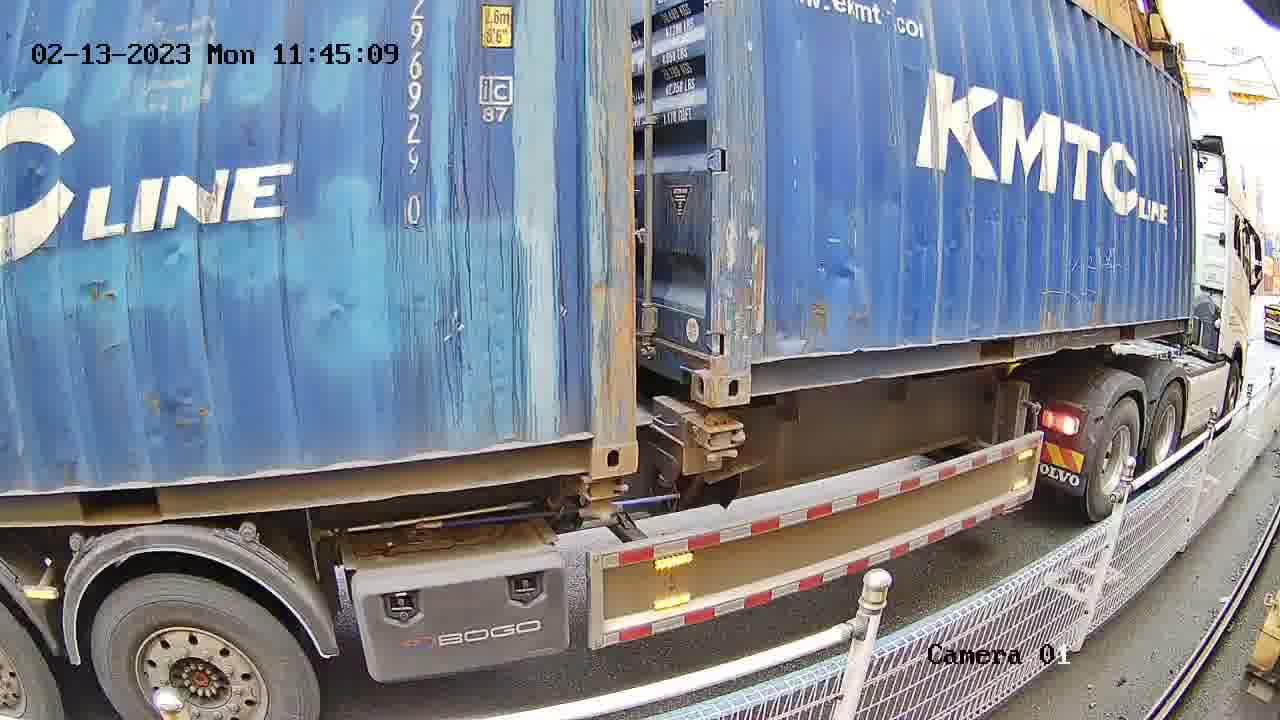Cone: (698, 410, 745, 463), (576, 478, 628, 519)
Hole_L: (714, 339, 771, 407)
Hole_R: (553, 403, 639, 476), (670, 335, 711, 408)
Tire: (91, 575, 312, 717), (1090, 399, 1140, 518), (1149, 385, 1186, 475)
